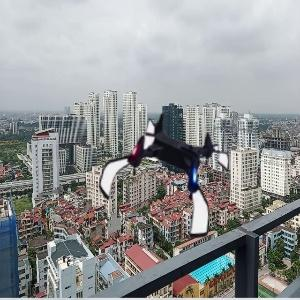drone: (98, 108, 232, 242)
